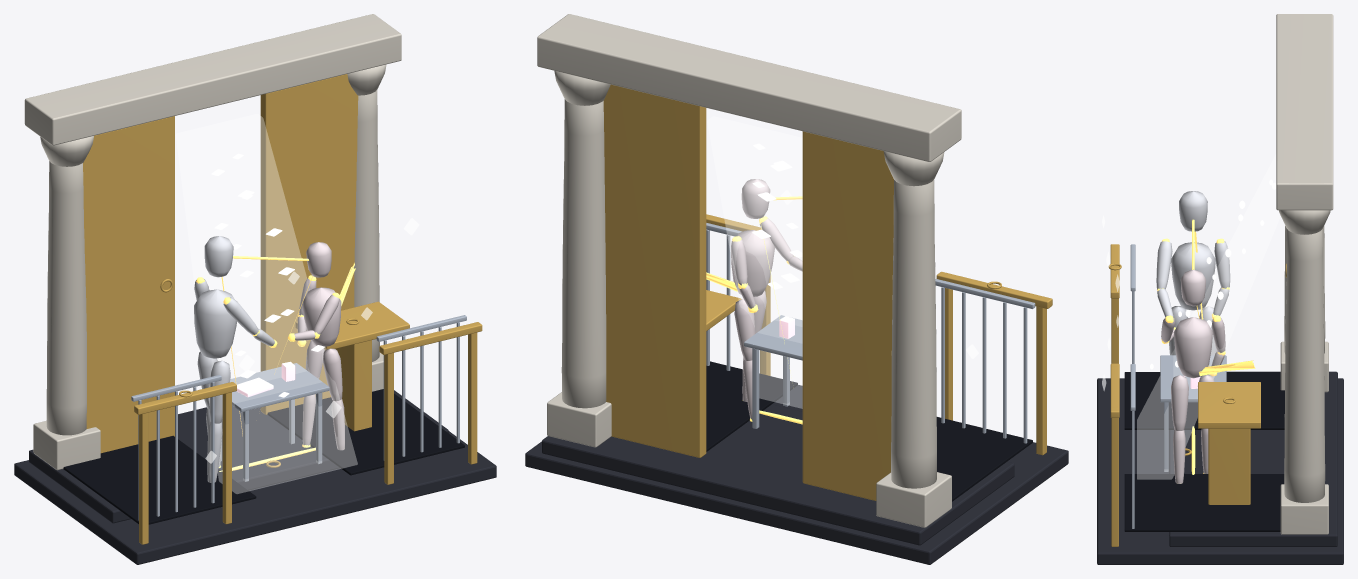
Rendered from webtoon-genre-academy-rooftop-corridor-v30.glb.
The picture shows the model from 3 angles, left to right: view 1: azimuth 30°, elevation 25°; view 2: azimuth 150°, elevation 25°; view 3: azimuth 270°, elevation 25°; orthographic projection. The views are drawn at different scales.
Parts seen in each view (by area): view 1: Articulated_V30Genre1_Academy_DoorsAndIkRig, V30Genre1_Academy_PortalColonnade, Volumetric_V30Genre1_Academy_GodRaySlit, V30Genre1_Academy_DatumDeck, ShadowDrift_V30Genre1_Academy_UmbraMask, GenreV30_V30Genre1_Academy_DatumSet, DuoVrm_V30Genre1_Academy_LeadA, DuoVrm_V30Genre1_Academy_LeadB, DuoVrm_V30Genre1_Academy_EyelineAndAxis180, Atmospheric_V30Genre1_Academy_MidMotes, Atmospheric_V30Genre1_Academy_FgBokehLayer, GenreV30_V30Genre1_Academy_HeroProp; view 2: Articulated_V30Genre1_Academy_DoorsAndIkRig, V30Genre1_Academy_PortalColonnade, V30Genre1_Academy_DatumDeck, Volumetric_V30Genre1_Academy_GodRaySlit, ShadowDrift_V30Genre1_Academy_UmbraMask, GenreV30_V30Genre1_Academy_DatumSet, DuoVrm_V30Genre1_Academy_LeadB, DuoVrm_V30Genre1_Academy_EyelineAndAxis180, Atmospheric_V30Genre1_Academy_MidMotes; view 3: V30Genre1_Academy_PortalColonnade, V30Genre1_Academy_DatumDeck, ShadowDrift_V30Genre1_Academy_UmbraMask, Volumetric_V30Genre1_Academy_GodRaySlit, Articulated_V30Genre1_Academy_DoorsAndIkRig, DuoVrm_V30Genre1_Academy_LeadB, DuoVrm_V30Genre1_Academy_LeadA, GenreV30_V30Genre1_Academy_DatumSet, DuoVrm_V30Genre1_Academy_EyelineAndAxis180, Atmospheric_V30Genre1_Academy_MidMotes.
Part boxes in pixels (x1,y1,x2,y2): Articulated_V30Genre1_Academy_DoorsAndIkRig: [83, 74, 482, 544]; V30Genre1_Academy_PortalColonnade: [24, 14, 401, 470]; Volumetric_V30Genre1_Academy_GodRaySlit: [176, 114, 357, 493]; V30Genre1_Academy_DatumDeck: [14, 390, 496, 564]; ShadowDrift_V30Genre1_Academy_UmbraMask: [63, 389, 464, 524]; GenreV30_V30Genre1_Academy_DatumSet: [131, 315, 466, 520]; DuoVrm_V30Genre1_Academy_LeadA: [194, 236, 274, 482]; DuoVrm_V30Genre1_Academy_LeadB: [294, 242, 344, 450]; DuoVrm_V30Genre1_Academy_EyelineAndAxis180: [196, 256, 355, 471]; Atmospheric_V30Genre1_Academy_MidMotes: [211, 153, 324, 397]; Atmospheric_V30Genre1_Academy_FgBokehLayer: [205, 218, 419, 463]; GenreV30_V30Genre1_Academy_HeroProp: [236, 361, 295, 397]; Articulated_V30Genre1_Academy_DoorsAndIkRig: [603, 84, 1052, 500]; V30Genre1_Academy_PortalColonnade: [537, 14, 961, 527]; V30Genre1_Academy_DatumDeck: [525, 385, 1068, 564]; Volumetric_V30Genre1_Academy_GodRaySlit: [707, 116, 802, 408]; ShadowDrift_V30Genre1_Academy_UmbraMask: [706, 361, 1032, 501]; GenreV30_V30Genre1_Academy_DatumSet: [706, 223, 1035, 443]; DuoVrm_V30Genre1_Academy_LeadB: [731, 179, 802, 419]; DuoVrm_V30Genre1_Academy_EyelineAndAxis180: [706, 196, 802, 424]; Atmospheric_V30Genre1_Academy_MidMotes: [752, 143, 802, 289]; V30Genre1_Academy_PortalColonnade: [1276, 14, 1333, 534]; V30Genre1_Academy_DatumDeck: [1097, 371, 1343, 564]; ShadowDrift_V30Genre1_Academy_UmbraMask: [1124, 372, 1284, 531]; Volumetric_V30Genre1_Academy_GodRaySlit: [1137, 155, 1280, 479]; Articulated_V30Genre1_Academy_DoorsAndIkRig: [1108, 244, 1286, 546]; DuoVrm_V30Genre1_Academy_LeadB: [1161, 269, 1225, 483]; DuoVrm_V30Genre1_Academy_LeadA: [1156, 191, 1230, 355]; GenreV30_V30Genre1_Academy_DatumSet: [1130, 244, 1226, 528]; DuoVrm_V30Genre1_Academy_EyelineAndAxis180: [1157, 219, 1255, 474]; Atmospheric_V30Genre1_Academy_MidMotes: [1150, 179, 1276, 369].
Size of the model in its own units: 2.76 by 3.18 by 1.64.
